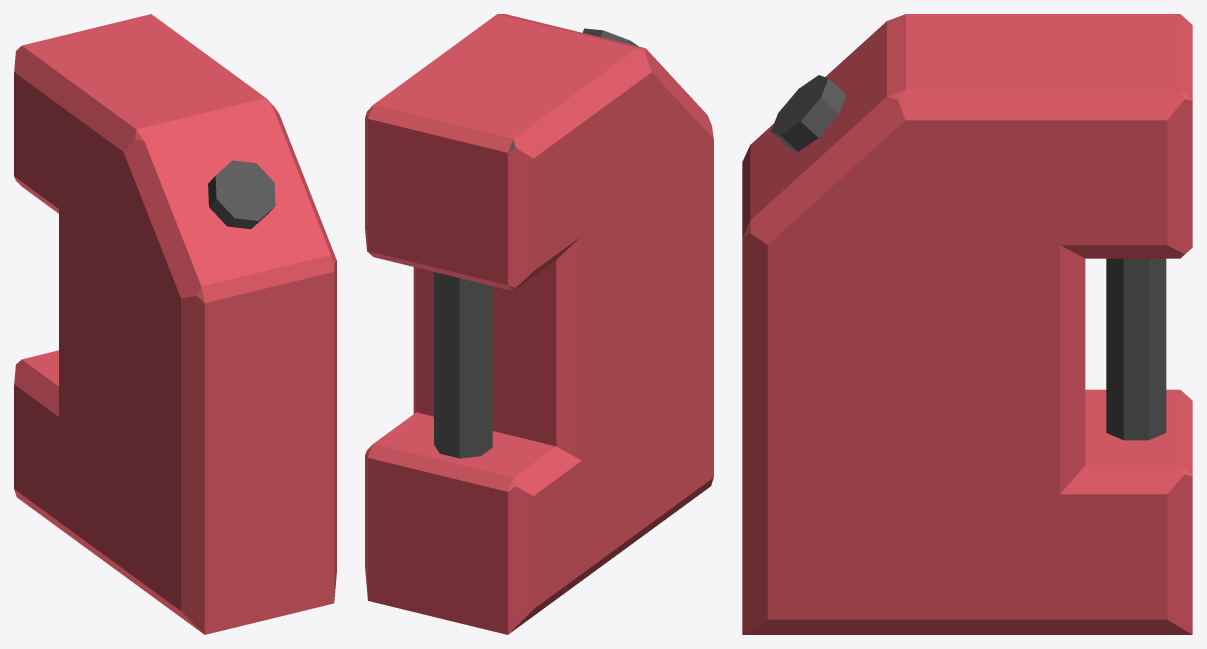
Rendered from Canister.fbx.
The picture shows the model from 3 angles, left to right: view 1: azimuth 30°, elevation 25°; view 2: azimuth 150°, elevation 25°; view 3: azimuth 270°, elevation 25°; orthographic projection. The views are drawn at different scales.
Visible parts, largest first — view 1: Canister; view 2: Canister; view 3: Canister.
Boxes of the visible parts, x1,y1,x2,y2 form: Canister: (14, 14, 336, 634); Canister: (365, 14, 713, 634); Canister: (742, 14, 1192, 634).
Size of the model in its own units: 144 by 401 by 300.
